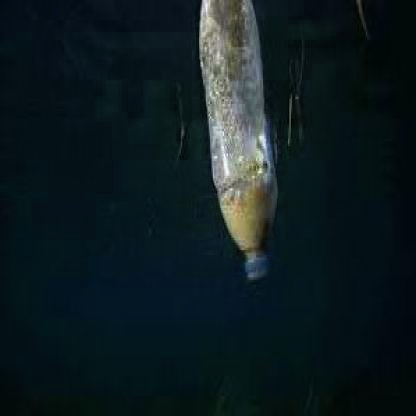pbottle: (186, 2, 288, 285)
